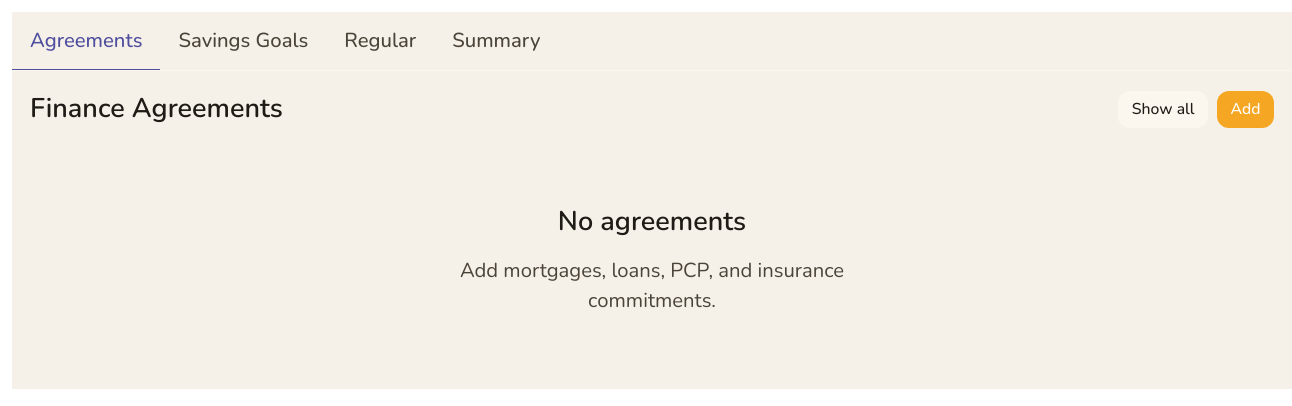
Scenario: FinancePage › switches to savings tab
Click the tab "Savings Goals".
click(243, 42)  # box [160,12,326,71]
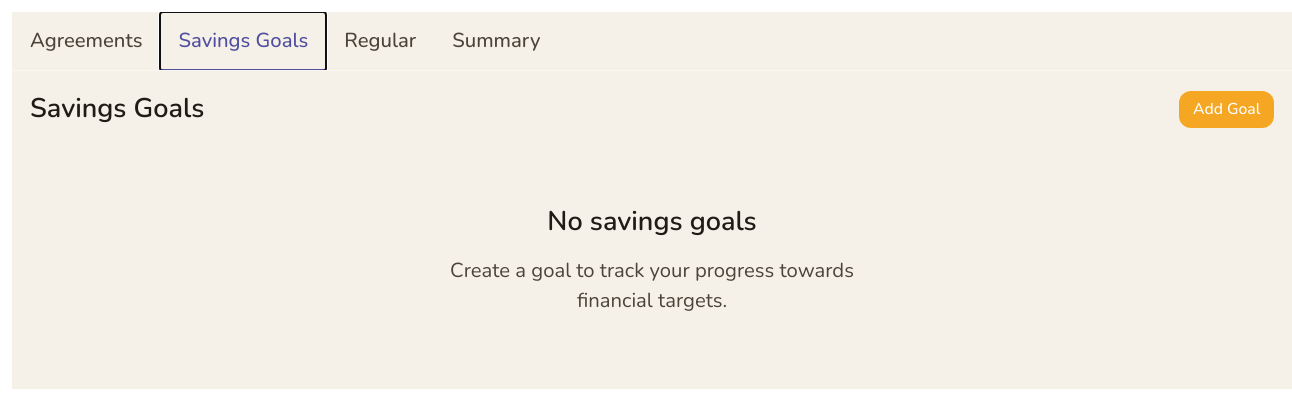
Expected: the heading "No savings goals" is shown, [547,202,757,242]
